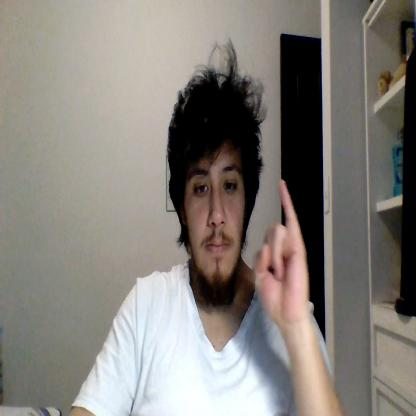I: (252, 179, 308, 318)
